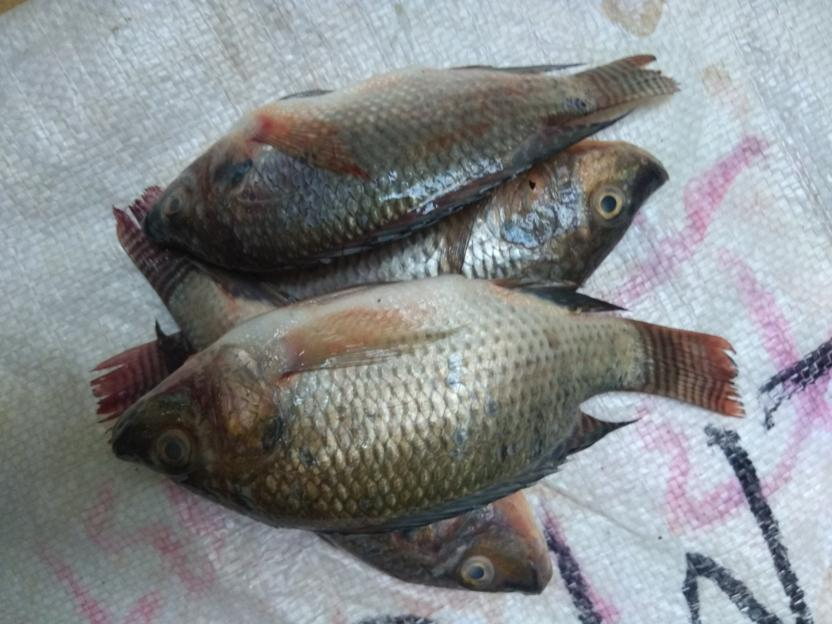Fish head: (113, 338, 285, 510), (506, 141, 671, 284), (143, 134, 262, 270), (416, 482, 555, 597)
Fish tail: (627, 320, 747, 422), (88, 328, 195, 439), (110, 182, 199, 305), (570, 52, 681, 124)
